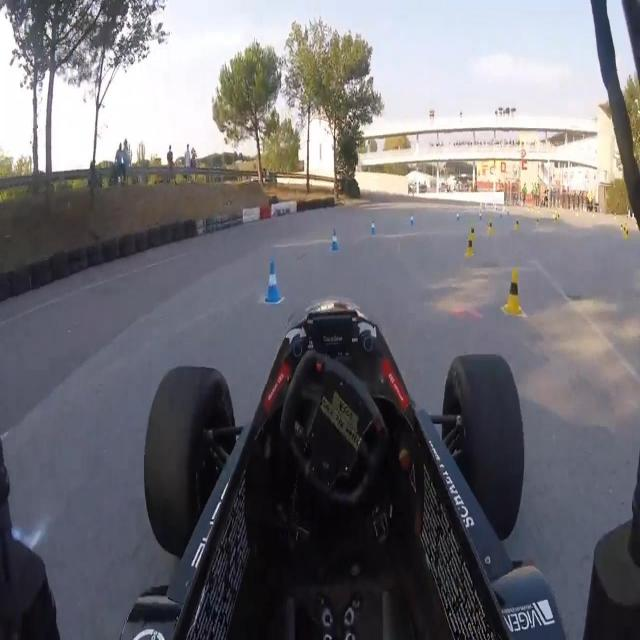blue_cone: (259, 252, 283, 306), (331, 226, 342, 255), (370, 216, 377, 240), (410, 213, 415, 229), (456, 214, 460, 222), (479, 212, 482, 222)
yellow_cone: (504, 267, 526, 317), (464, 233, 474, 257), (470, 221, 477, 236), (488, 218, 493, 236), (514, 218, 520, 232), (625, 230, 629, 240), (536, 218, 539, 230), (554, 215, 557, 225), (557, 212, 560, 222), (624, 226, 627, 234)
